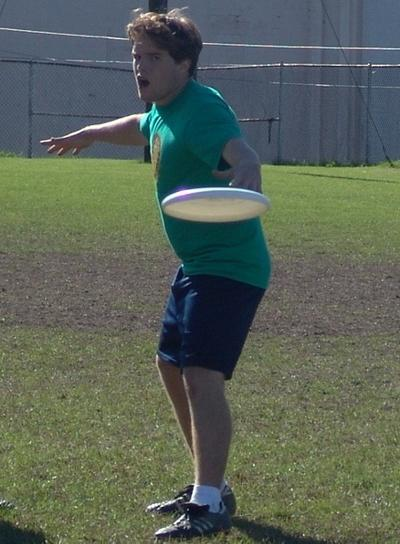person: (40, 11, 273, 538)
